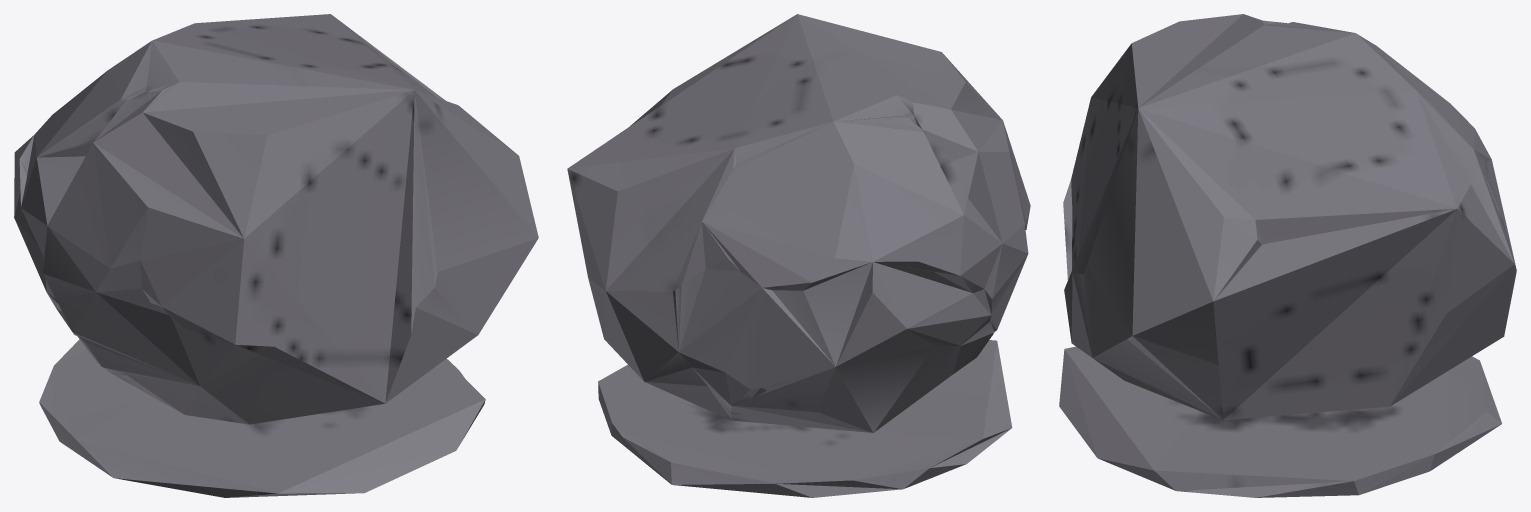
The model's file is SM_MeshyRockBoulderB.fbx.
3 renders of one model, left to right at view 1: azimuth 30°, elevation 25°; view 2: azimuth 150°, elevation 25°; view 3: azimuth 270°, elevation 25°, orthographic. The views are drawn at different scales.
Visible parts, largest first — view 1: SM_MeshyRockBoulderB; view 2: SM_MeshyRockBoulderB; view 3: SM_MeshyRockBoulderB.
Part boxes in pixels (x1,y1,x2,y2): SM_MeshyRockBoulderB: (14,14,538,497); SM_MeshyRockBoulderB: (567,14,1030,497); SM_MeshyRockBoulderB: (1059,14,1516,497).
Bounding box in the file's own units: 0.6288 × 0.4896 × 0.5888.
1 material, 1 textured.
